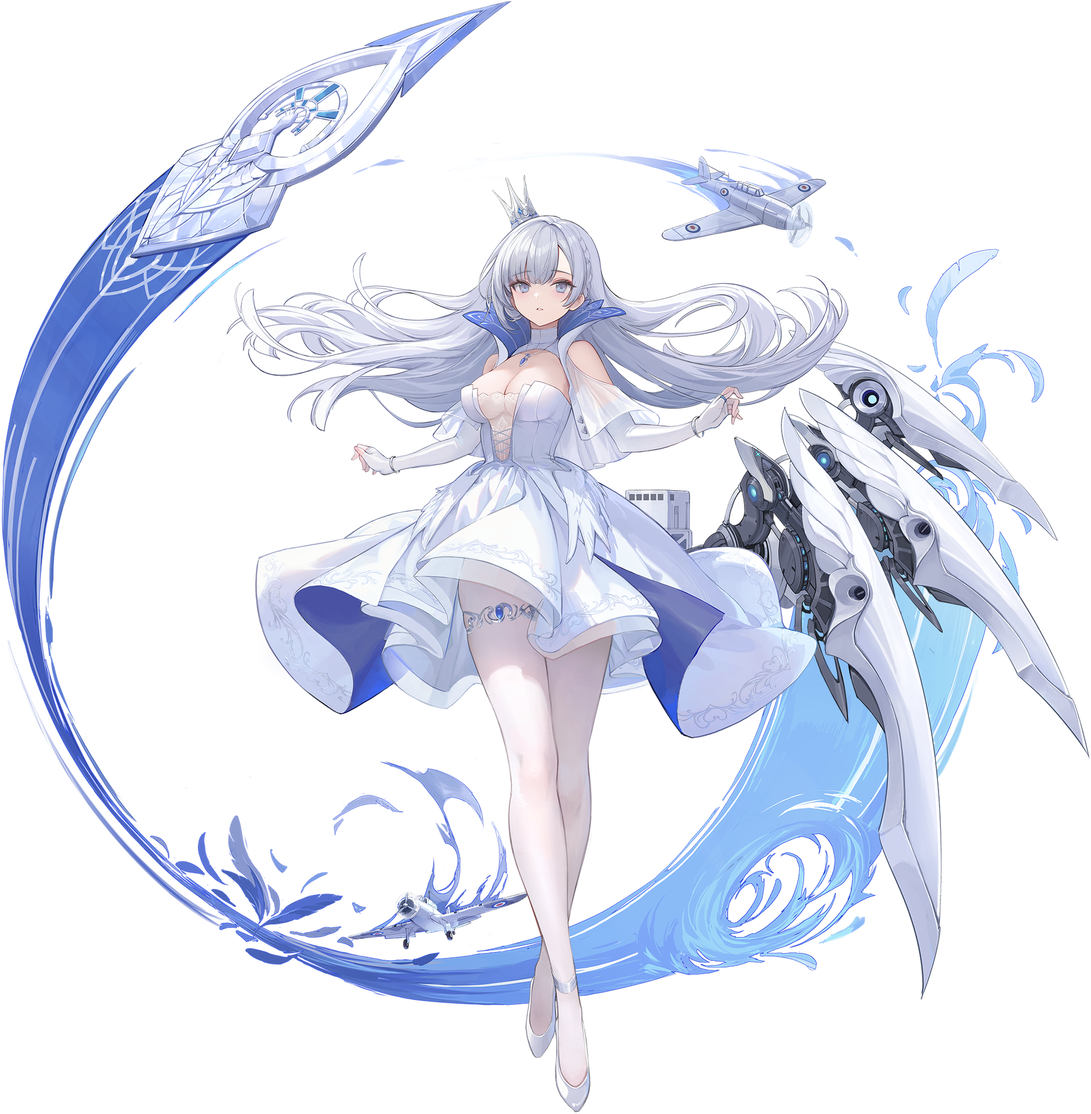person: (192, 106, 1060, 1113)
